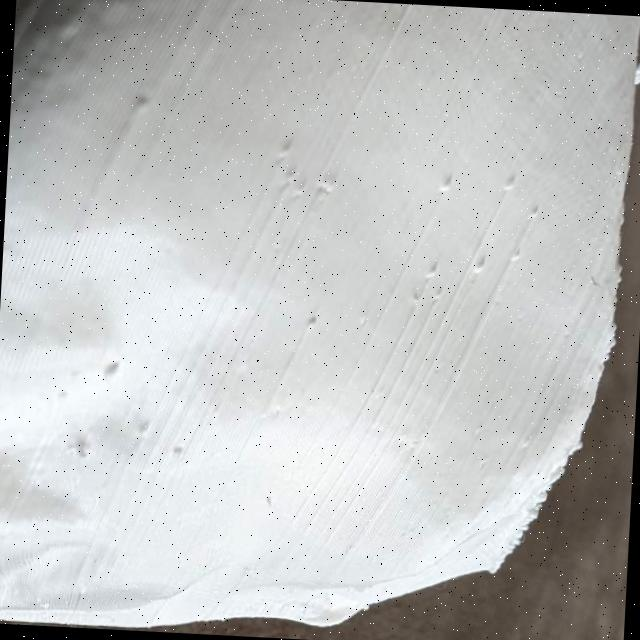blobs: (106, 356, 124, 381), (74, 444, 96, 464), (438, 173, 458, 193), (304, 314, 324, 332), (472, 254, 488, 276), (136, 89, 152, 110), (524, 203, 542, 221), (508, 247, 526, 262), (137, 420, 155, 435), (503, 175, 518, 190), (434, 286, 448, 302), (426, 264, 441, 278), (170, 443, 183, 459), (412, 292, 423, 302)
